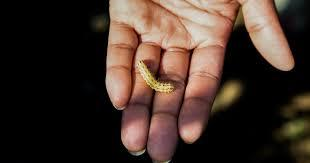Insects: (136, 57, 175, 97)
